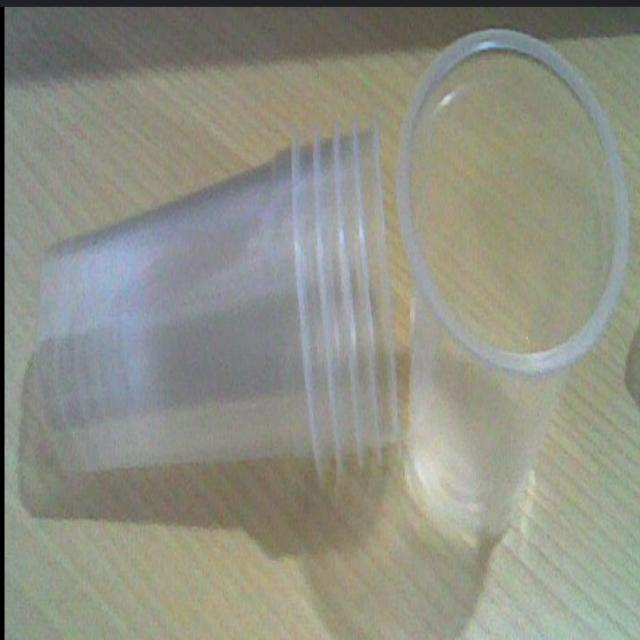GelasPlastik: (19, 115, 400, 523), (400, 26, 626, 540)
